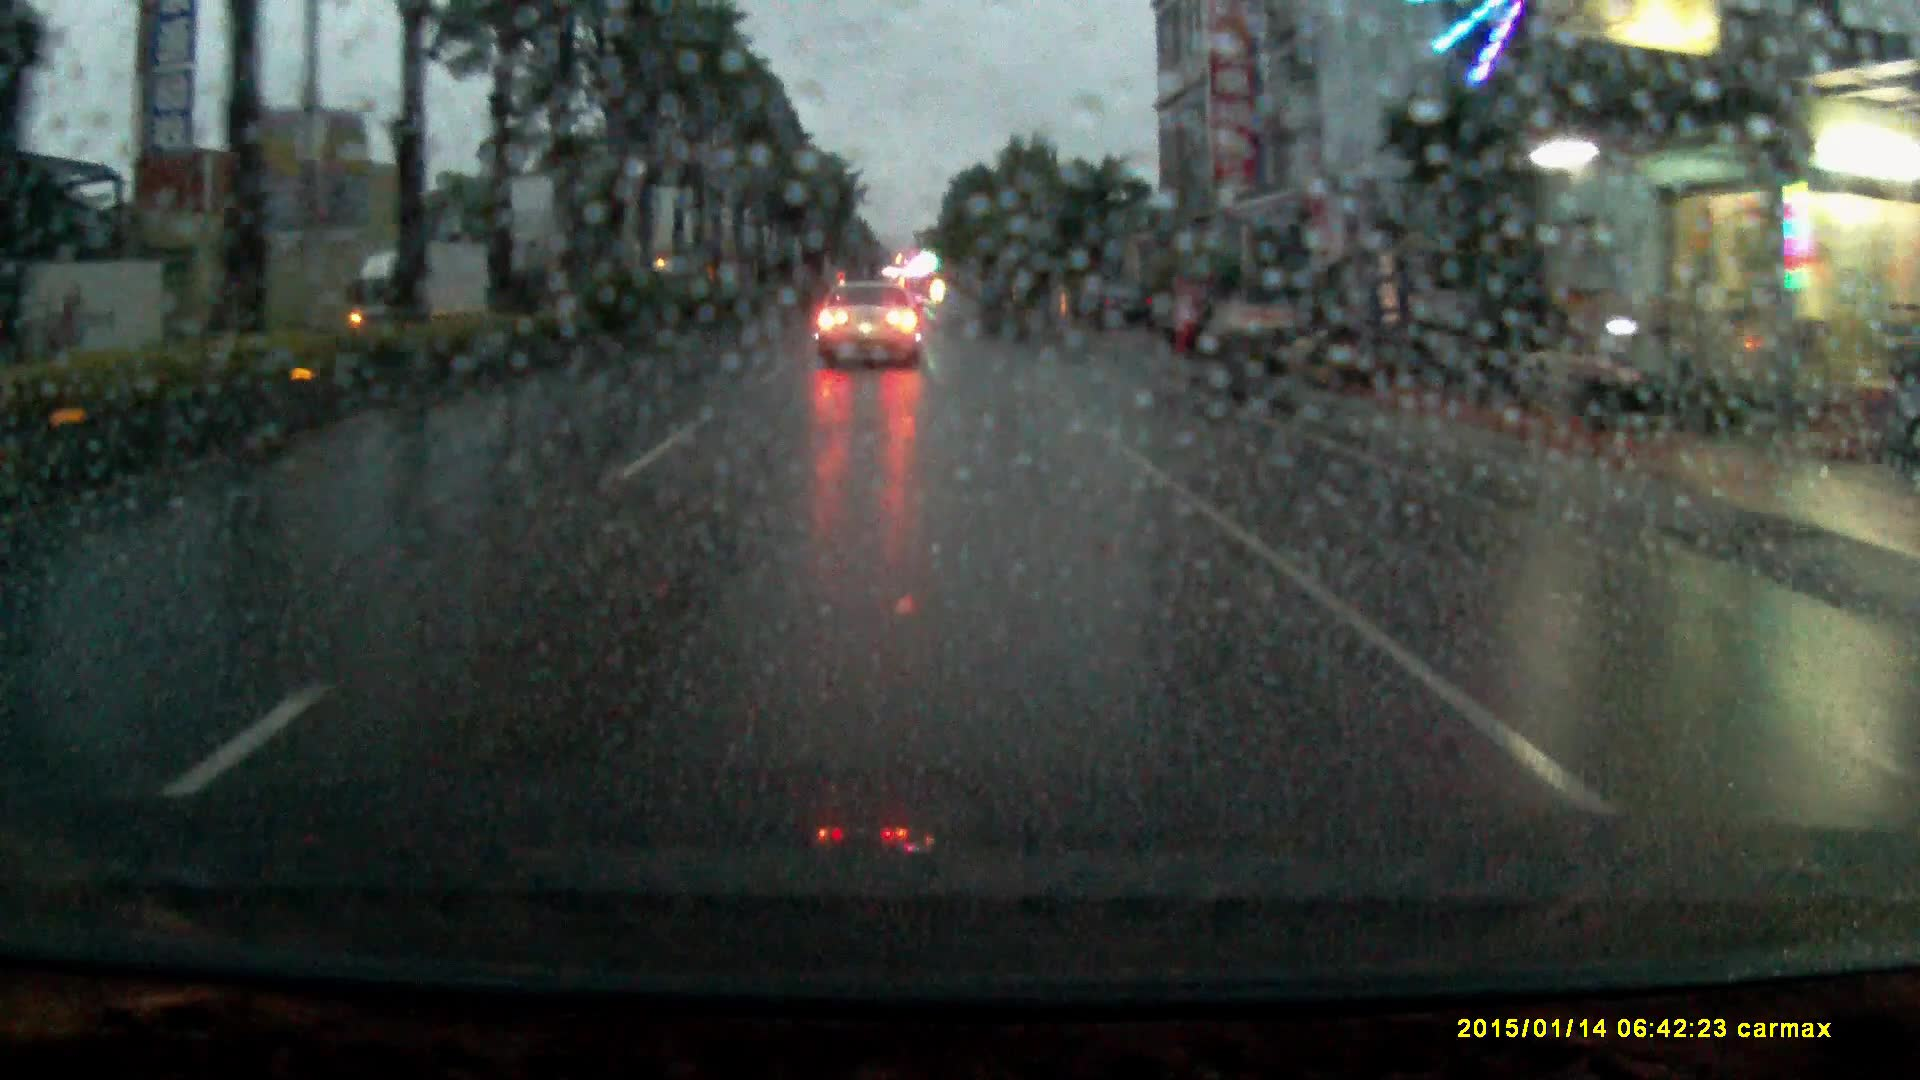vehicle: (344, 244, 491, 324), (818, 284, 920, 378), (1073, 285, 1154, 338)
